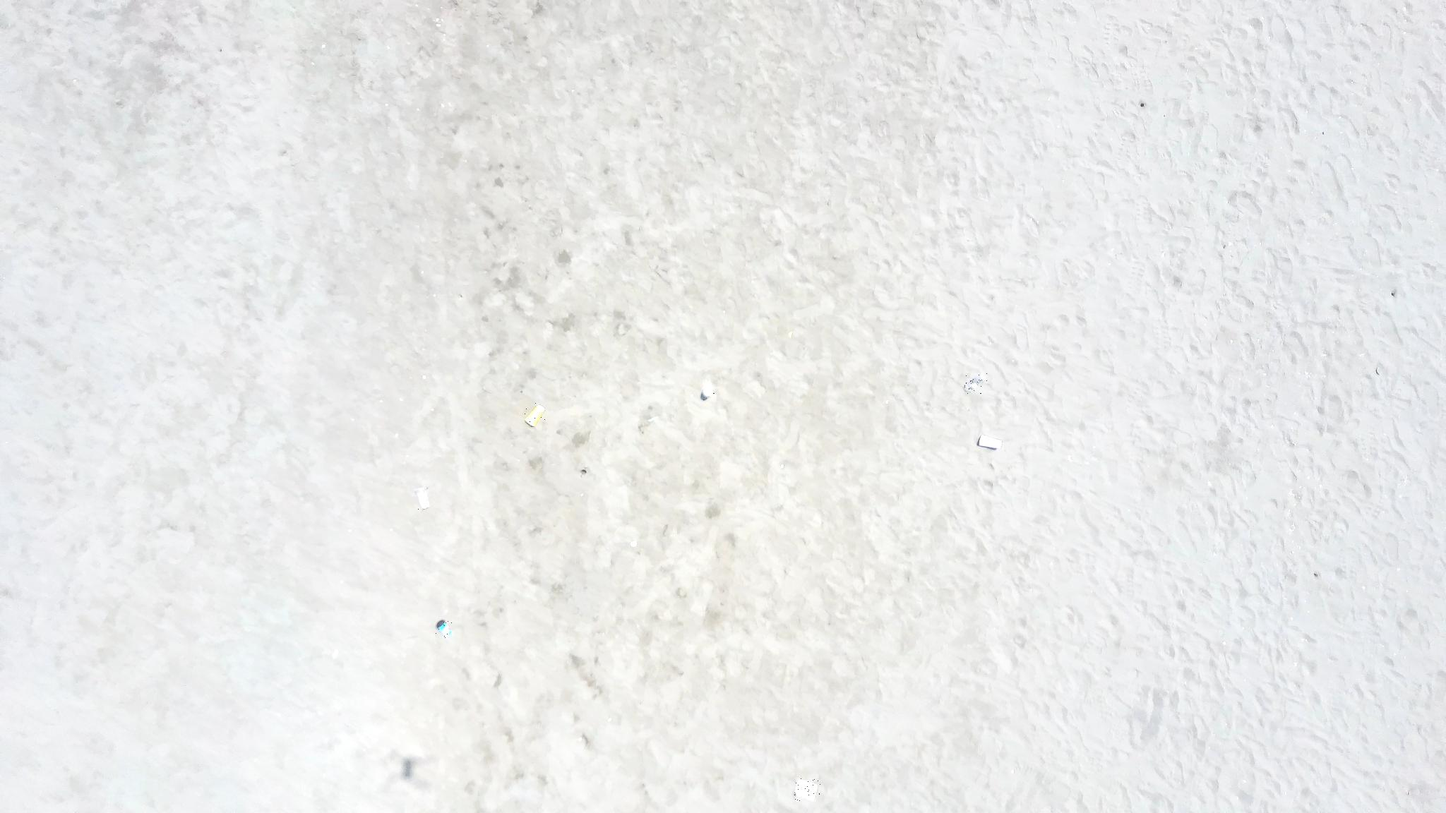Garbage: (794, 778, 820, 800), (964, 373, 986, 392), (525, 404, 544, 426), (414, 488, 429, 509), (436, 619, 452, 637), (978, 434, 1000, 447), (700, 382, 715, 399)
